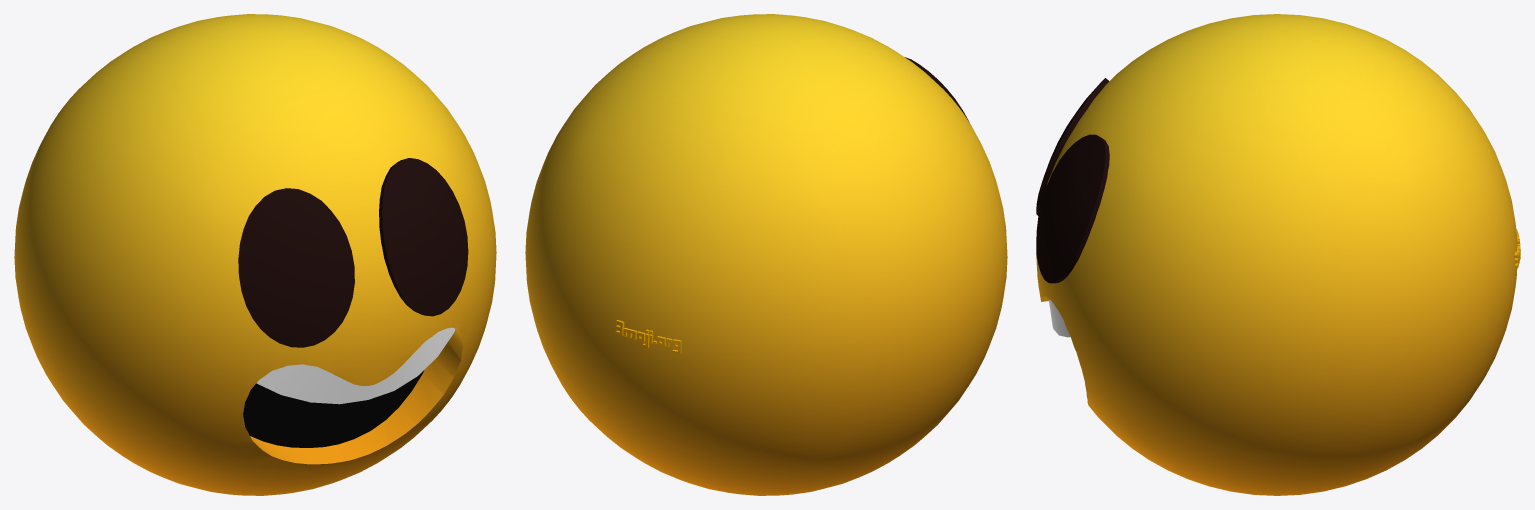
Rendered from grinning_face_with_big_eyes.gltf.
The picture shows the model from 3 angles, left to right: view 1: azimuth 30°, elevation 25°; view 2: azimuth 150°, elevation 25°; view 3: azimuth 270°, elevation 25°; orthographic projection.
Visible parts, largest first — view 1: Grinning Face with Big Eyes; view 2: Grinning Face with Big Eyes; view 3: Grinning Face with Big Eyes.
Part boxes in pixels (x1=…): Grinning Face with Big Eyes: x1=14, y1=14, x2=496, y2=495; Grinning Face with Big Eyes: x1=525, y1=14, x2=1007, y2=495; Grinning Face with Big Eyes: x1=1036, y1=14, x2=1520, y2=495.
Size of the model in its own units: 1.69 by 1.69 by 1.7.
Materials: 3 (2 with a texture image).
